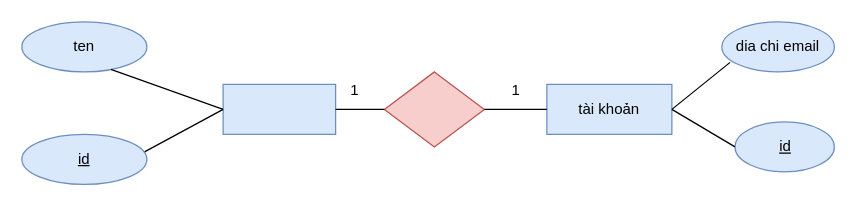
This 856x208 diagram has some shape labels left out. Here are the shapes that lost their labels. From the top down, the centre of each, then its label:
At pixel 279 108: "khách hàng".
At pixel 433 109: "quản lý".
